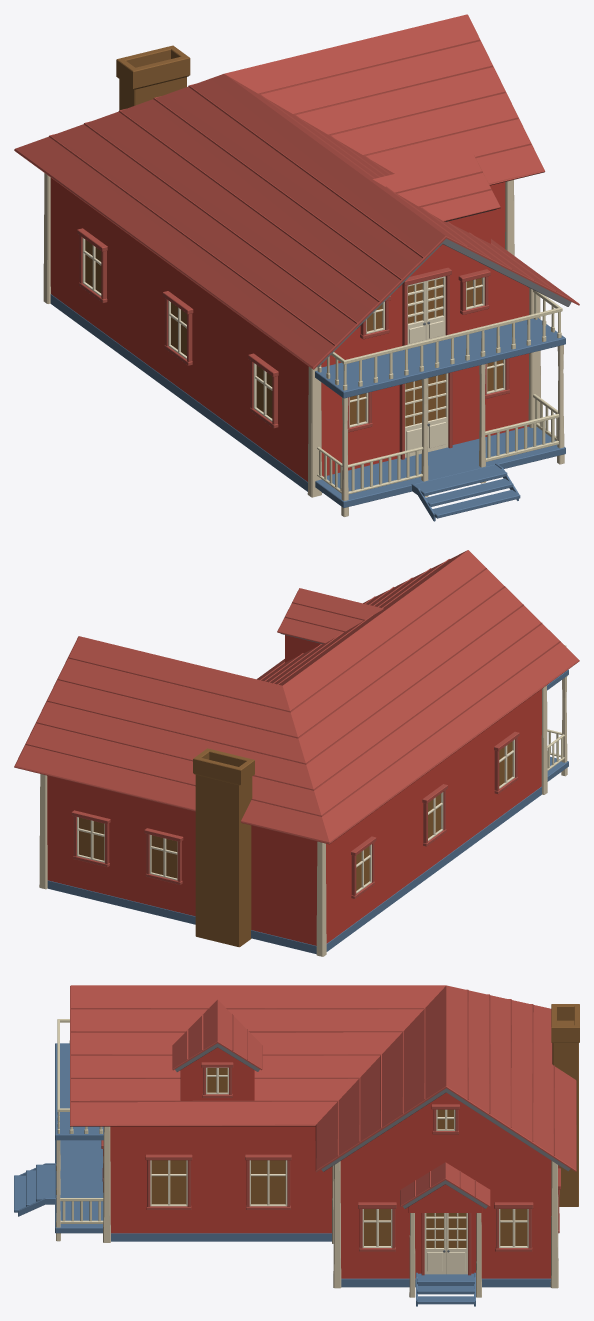
Rendered from farmhouse_a01.gltf.
The picture shows the model from 3 angles, top to bottom: view 1: azimuth 30°, elevation 25°; view 2: azimuth 150°, elevation 25°; view 3: azimuth 270°, elevation 25°; orthographic projection. The views are drawn at different scales.
Visible parts, largest first — view 1: farmhouse_a01_001, Box1497, Box1576, Box1585, Box1556, Plane020, Rectangle027, Box1567, Rectangle028, Box1572, Shape026; view 2: farmhouse_a01_001, Box1497, Box1567, Box1572, Box1556, Box1585, Plane020; view 3: farmhouse_a01_001, Box1497, Box1576, Box1556, Box1585, Plane020, Box1572, Box1567, Shape026, Rectangle027, Rectangle028.
Boxes of the visible parts, x1,y1,x2,y2 form: farmhouse_a01_001: (14, 14, 579, 426); Box1497: (50, 178, 529, 481); Box1576: (315, 318, 565, 521); Box1585: (43, 173, 564, 516); Box1556: (77, 228, 509, 459); Plane020: (82, 238, 505, 457); Rectangle027: (317, 394, 559, 494); Box1567: (116, 45, 190, 110); Rectangle028: (317, 290, 562, 390); Box1572: (50, 294, 322, 492); Shape026: (317, 209, 571, 367); farmhouse_a01_001: (14, 550, 579, 890); Box1497: (47, 635, 541, 945); Box1567: (193, 748, 254, 947); Box1572: (47, 786, 541, 954); Box1556: (71, 731, 519, 898); Box1585: (39, 676, 567, 956); Plane020: (77, 739, 514, 893); farmhouse_a01_001: (70, 985, 576, 1247); Box1497: (110, 1047, 551, 1278); Box1576: (14, 1043, 475, 1306); Box1556: (101, 1062, 560, 1275); Box1585: (56, 1126, 558, 1297); Plane020: (150, 1067, 528, 1274); Box1572: (111, 1233, 550, 1287); Box1567: (551, 1004, 579, 1206); Shape026: (175, 1043, 570, 1208); Rectangle027: (60, 1198, 103, 1223); Rectangle028: (57, 1019, 102, 1133).
Size of the model in its own units: 12.45 by 7.57 by 18.15.
1 material, 1 textured.
